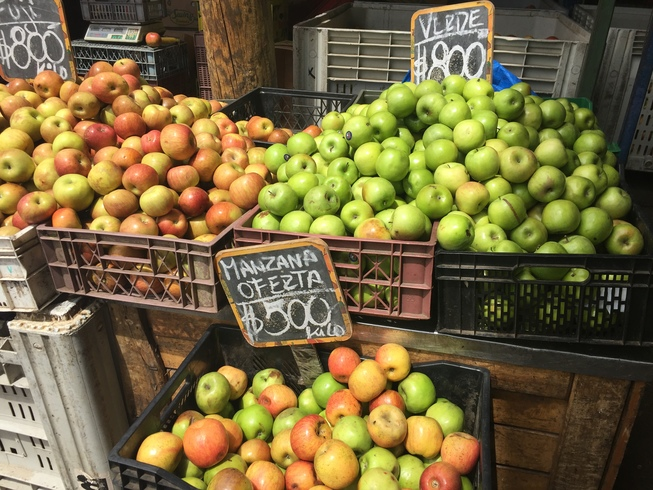precio: (211, 230, 363, 361), (406, 1, 498, 96), (1, 1, 86, 90)
